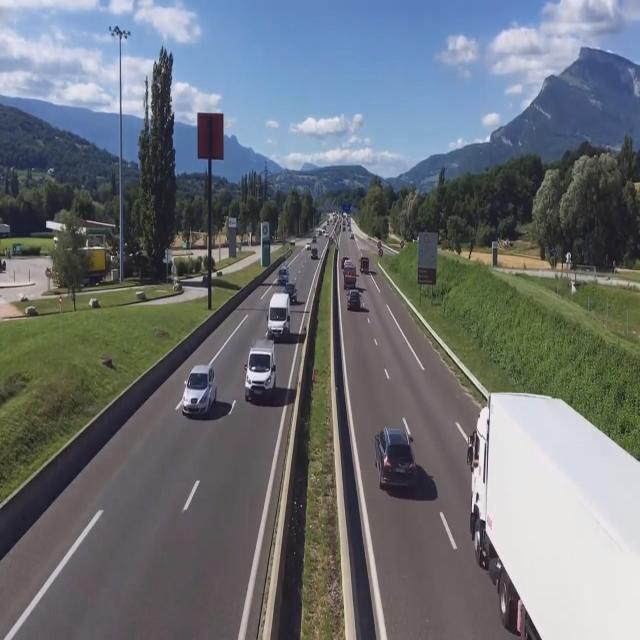bus: (268, 294, 289, 338)
car: (374, 424, 416, 493), (242, 341, 275, 404), (183, 363, 219, 418), (345, 286, 362, 313)
truck: (467, 394, 640, 640)
